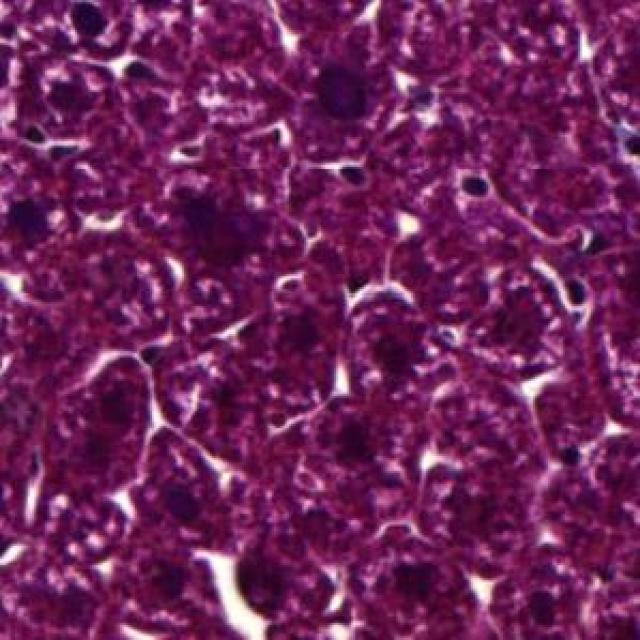inflammation: (332, 274, 432, 405)
